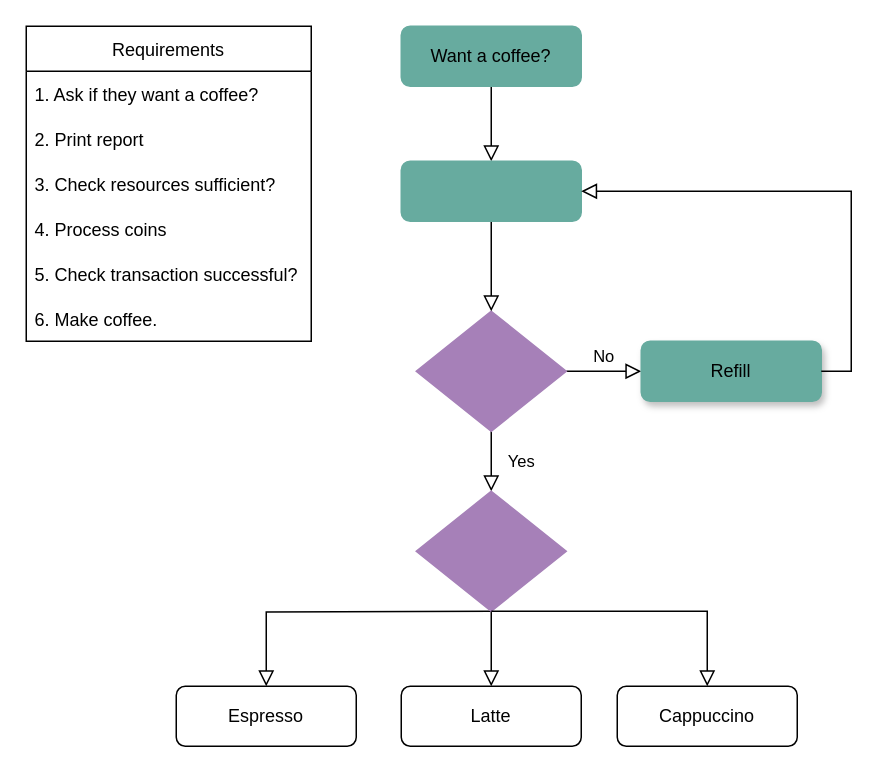
The diagram is 893 pixels wide and 773 high, and some of its shapes have lost their labels. Here are the shapes that lost their labels. From the top down, the centre of each, then its label:
the point at 490,190: Check resources
the point at 490,370: Resources sufficient?
the point at 490,550: What kind of coffee would you like?
